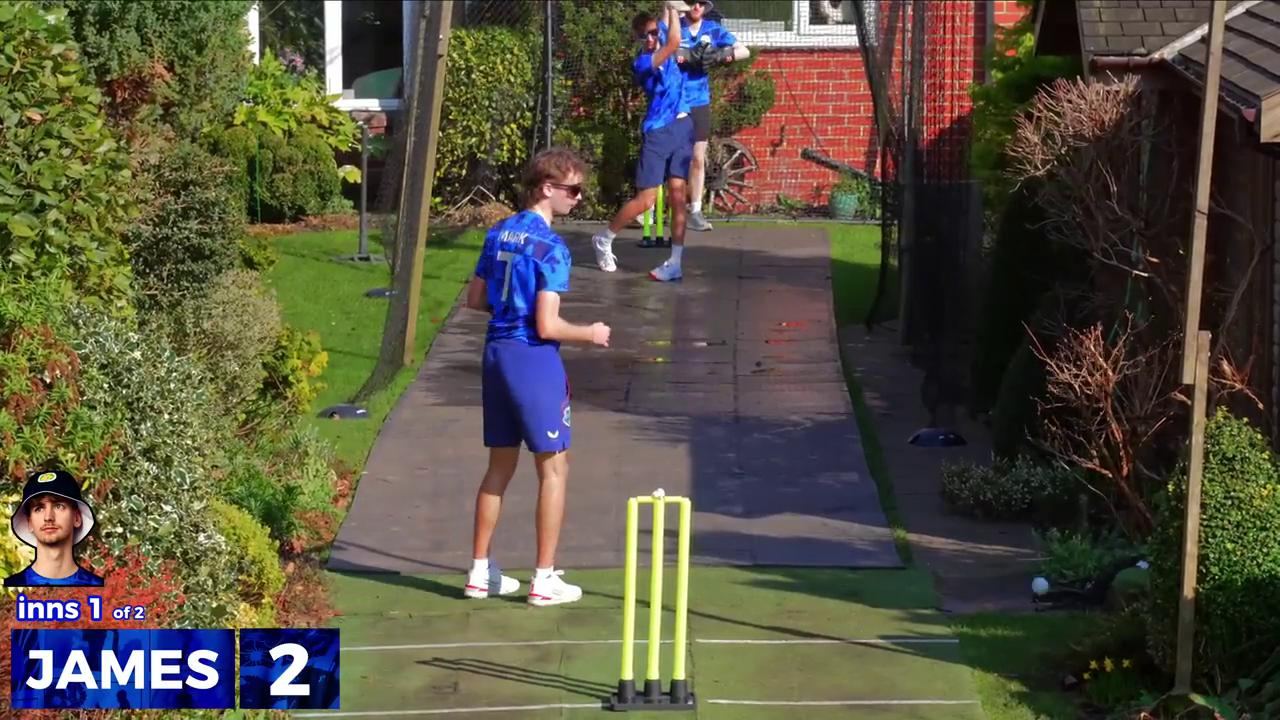ball: (1014, 569, 1059, 607)
